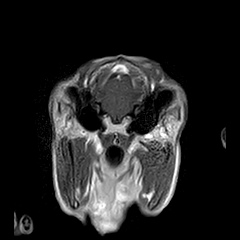Brain: (70, 28, 169, 126)
